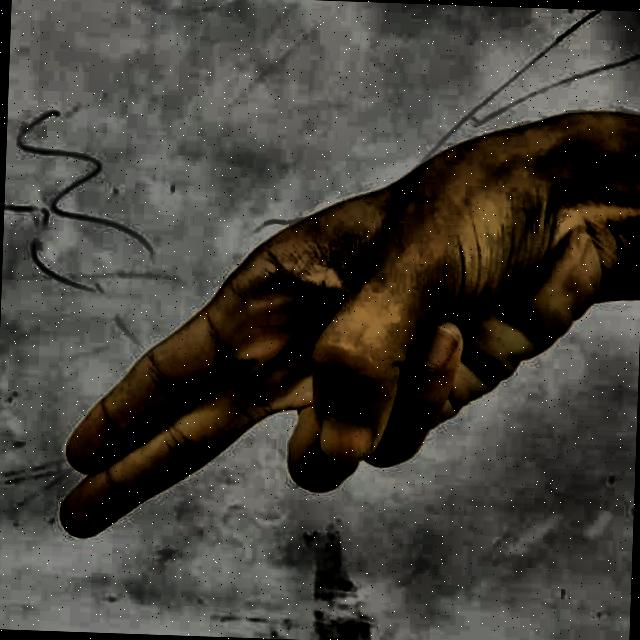Ha: (30, 104, 592, 601)
